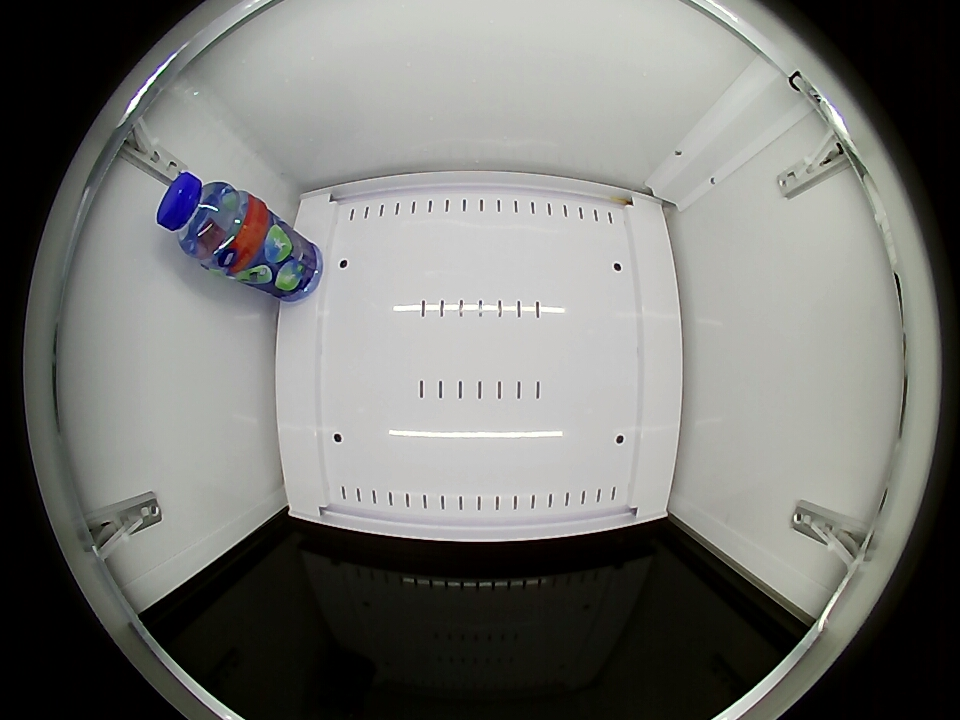maidong: (156, 172, 256, 266)
